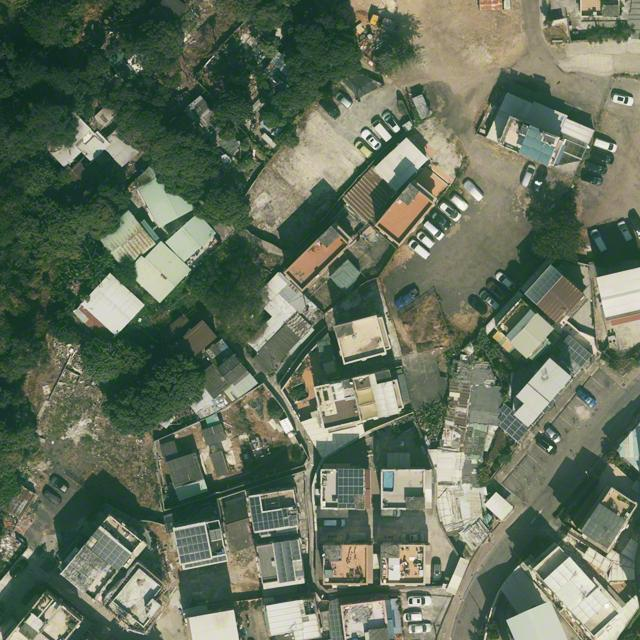SolarPanel: (524, 264, 563, 305), (91, 534, 132, 572), (174, 525, 211, 564), (558, 335, 592, 368), (590, 503, 625, 535), (274, 541, 296, 583), (252, 509, 291, 532), (499, 414, 528, 442), (183, 554, 228, 570), (338, 469, 364, 494), (581, 518, 605, 542), (249, 496, 261, 515), (290, 539, 300, 561), (499, 403, 512, 416), (92, 529, 104, 541), (338, 495, 355, 503), (338, 502, 356, 509), (497, 413, 506, 423), (294, 570, 304, 577)
